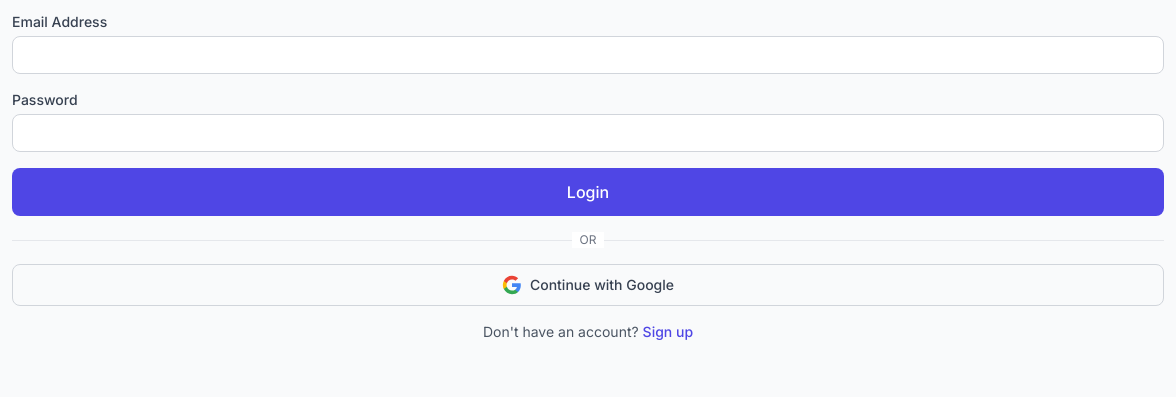
Test: LoginForm › shows validation errors when submitted empty
Click the button "Login" at [588, 192], box x1=12 y1=168 x2=1164 y2=216
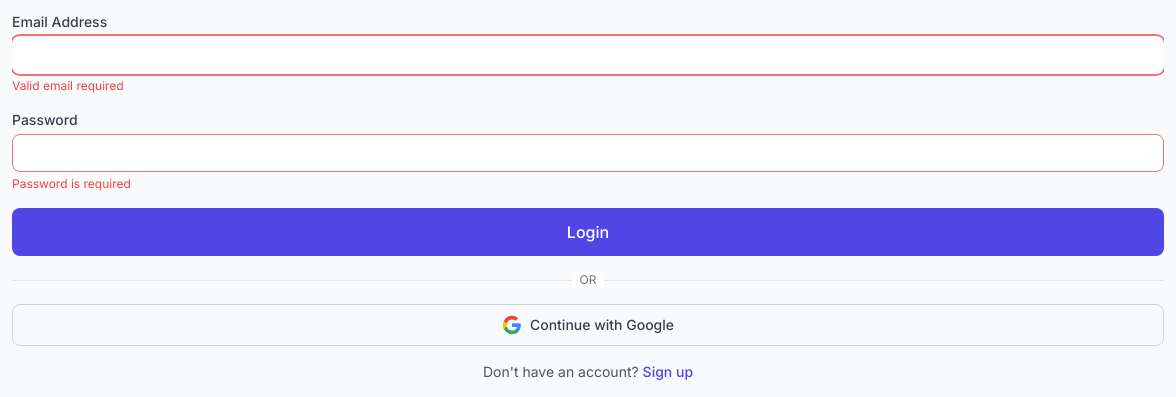
Expected: the text "Valid email required" is shown, x1=12 y1=78 x2=124 y2=93
